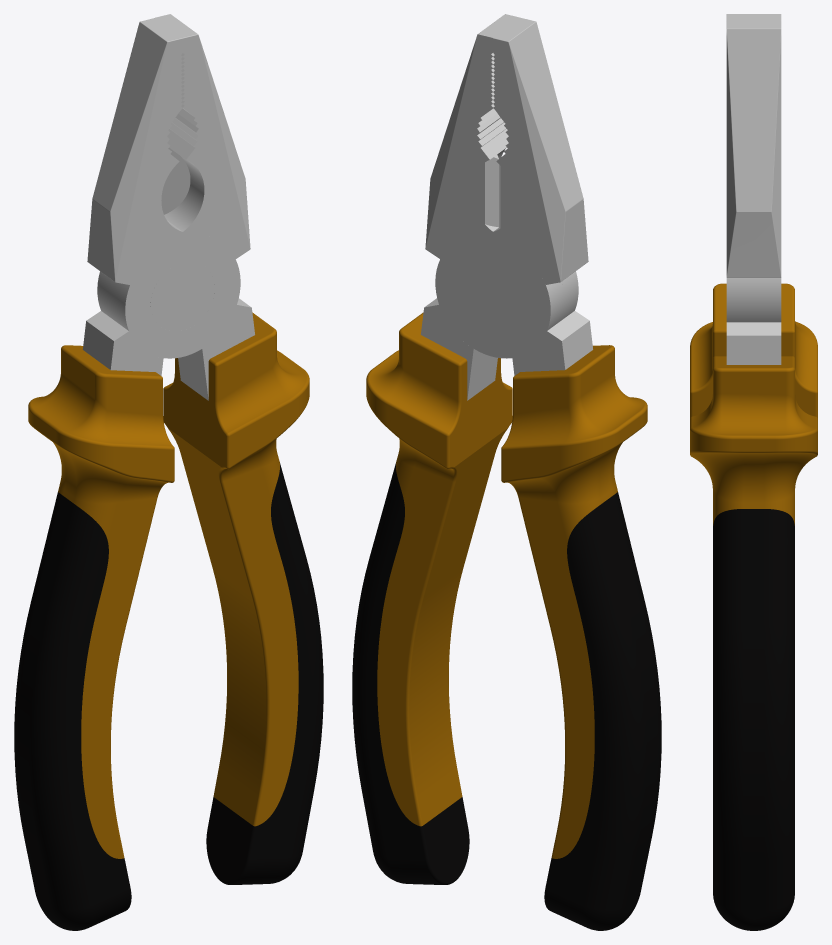
The model's file is Combination Pliers.obj.
The picture shows the model from 3 angles, left to right: view 1: azimuth 30°, elevation 25°; view 2: azimuth 150°, elevation 25°; view 3: azimuth 270°, elevation 25°; orthographic projection.
Visible parts, largest first — view 1: Combination_Pliers; view 2: Combination_Pliers; view 3: Combination_Pliers.
Part boxes in pixels (box(x1,y1,x2,y2)): Combination_Pliers: box(14, 14, 323, 930); Combination_Pliers: box(352, 14, 661, 930); Combination_Pliers: box(690, 14, 817, 930).
Size of the model in its own units: 54.09 by 156 by 21.
